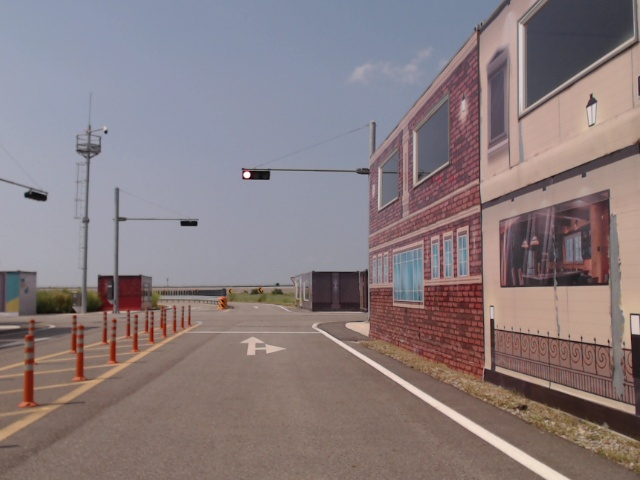red_3: (243, 171, 270, 178)
